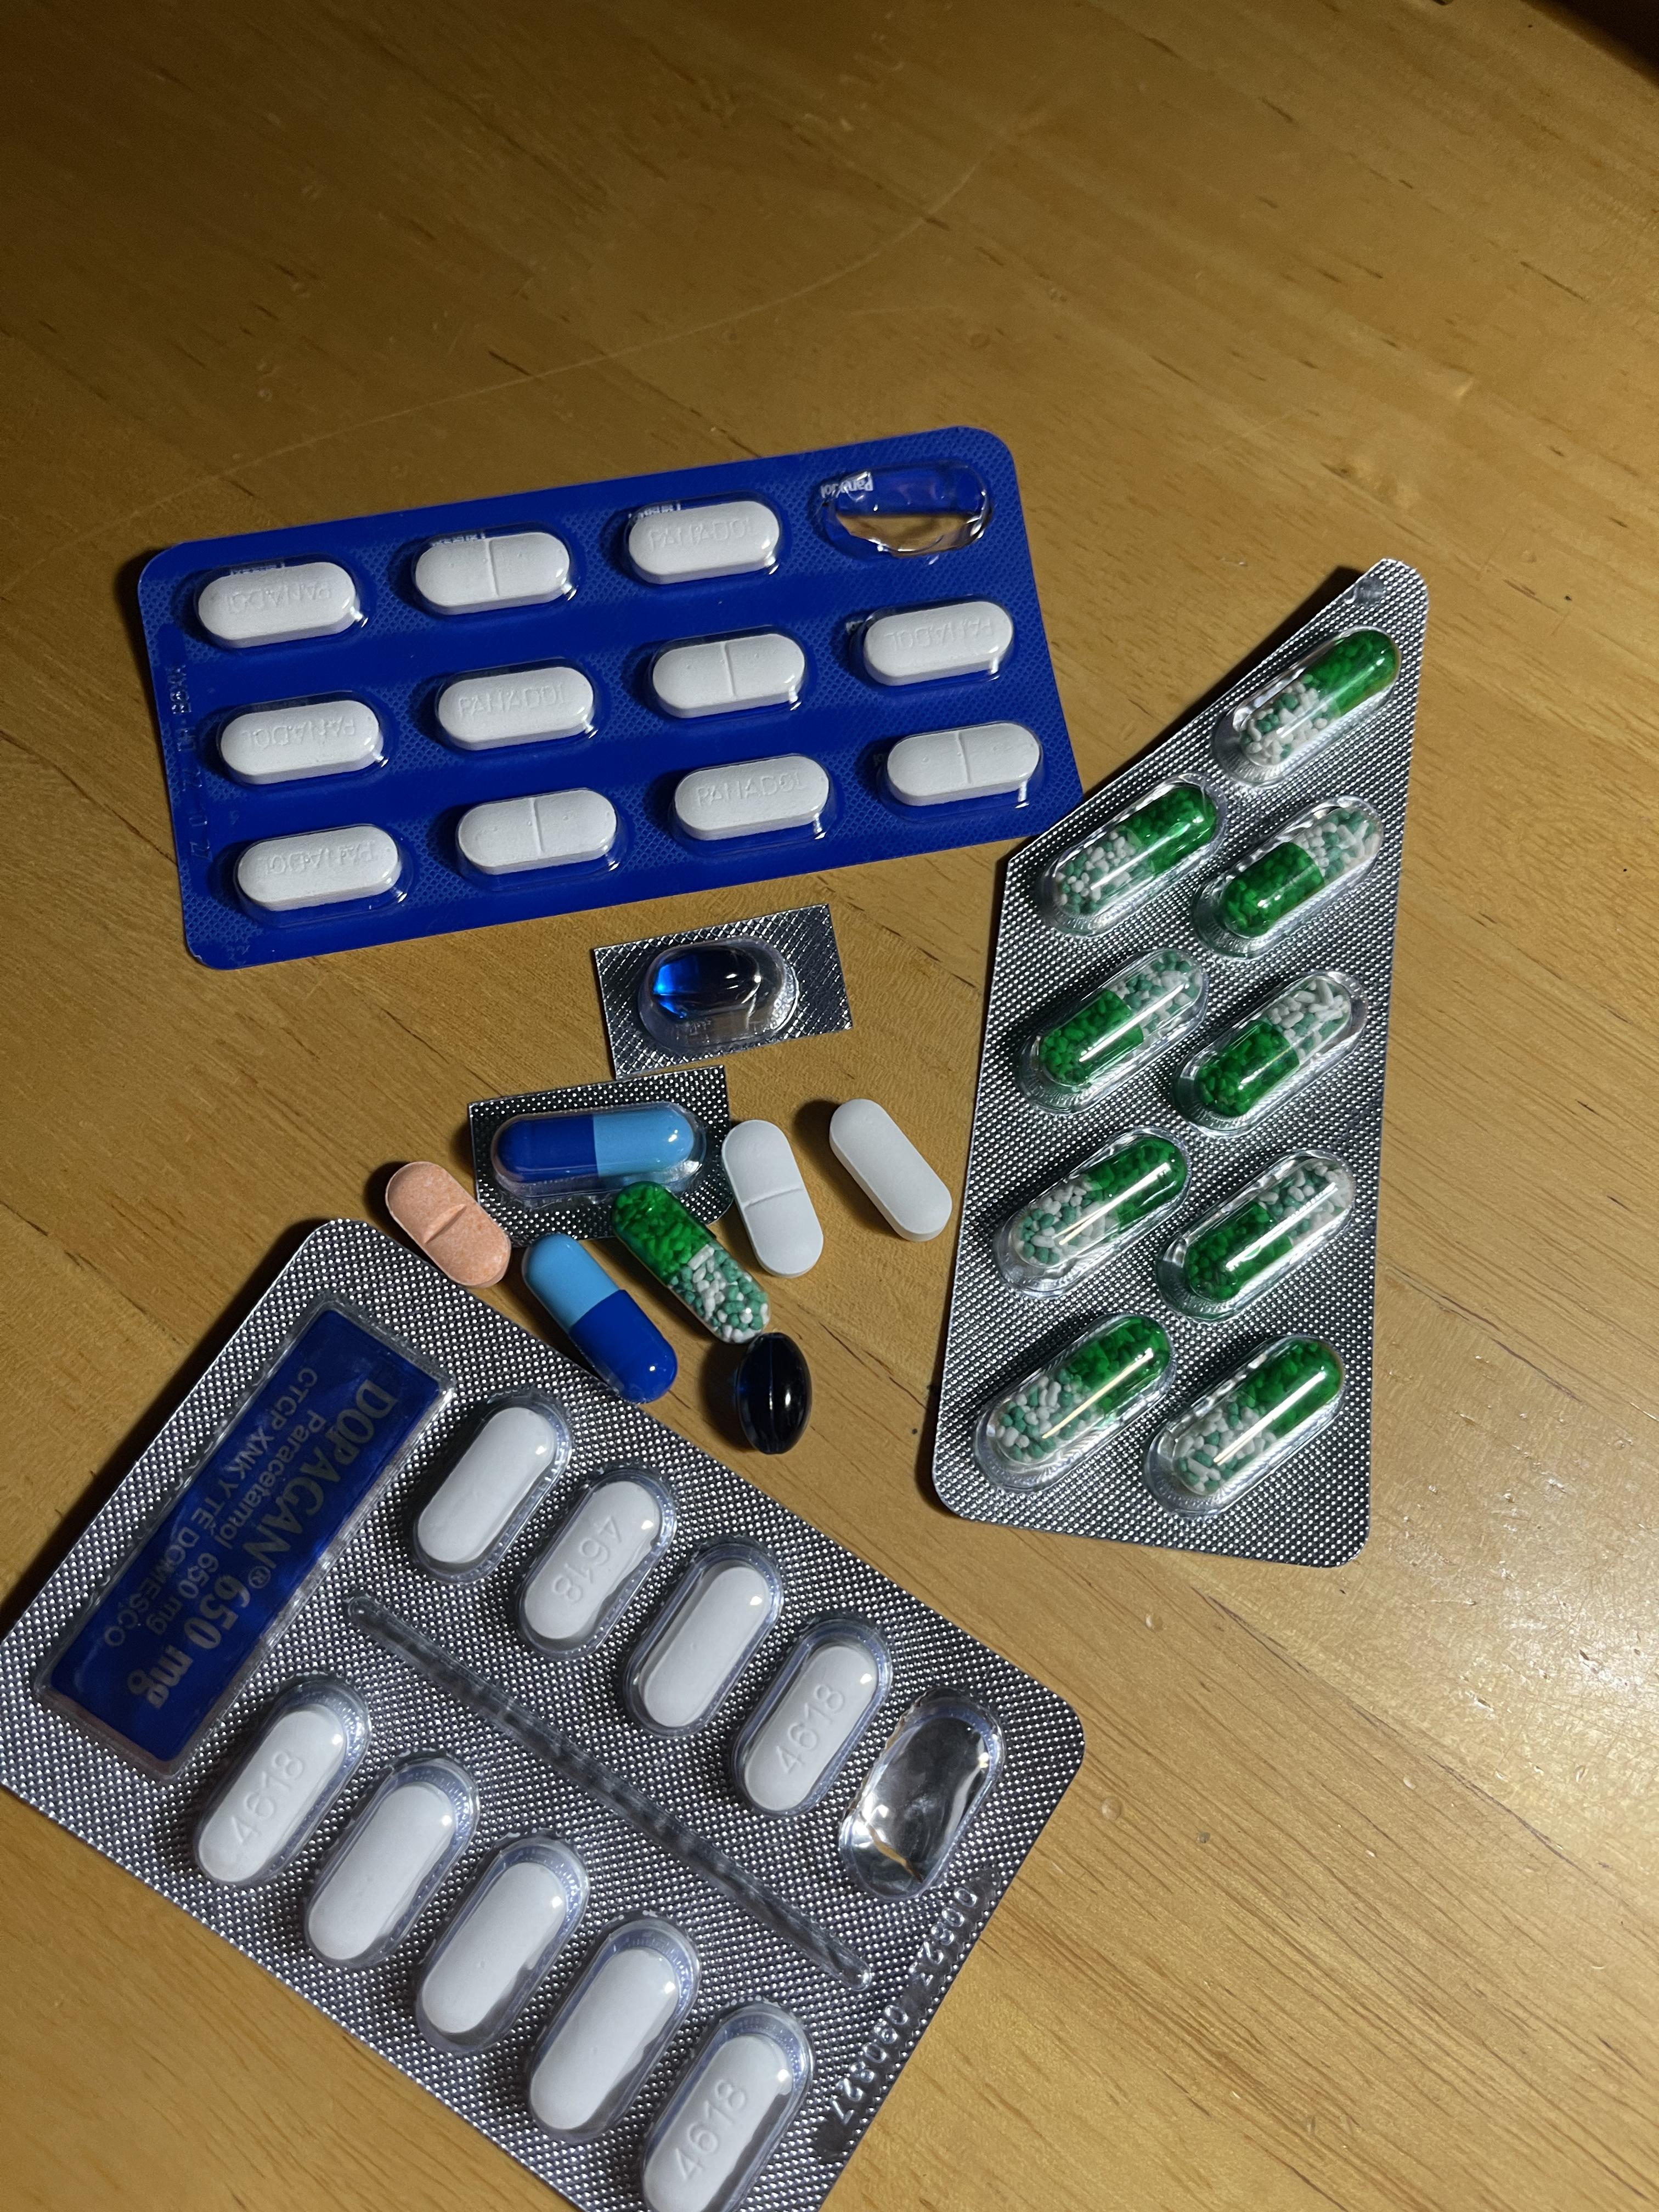Lincomyxin_500mg: (734, 1331, 814, 1453), (650, 944, 770, 1022)
Loratadine_10mg: (387, 1162, 514, 1292)
Paracetamol_350mg: (718, 1118, 821, 1277), (234, 824, 403, 913), (218, 697, 385, 786), (195, 561, 362, 650), (643, 631, 810, 719), (671, 752, 835, 843), (852, 597, 1018, 686), (457, 789, 619, 878), (434, 664, 598, 751), (880, 721, 1040, 810), (622, 498, 784, 585), (410, 531, 572, 617)
Paracetamol_500mg: (530, 1930, 692, 2135), (422, 1853, 577, 2047), (314, 1775, 462, 1963), (200, 1707, 349, 1888), (643, 2033, 791, 2210), (638, 1559, 775, 1730), (739, 1646, 873, 1815), (420, 1407, 563, 1566), (525, 1487, 657, 1646), (823, 1103, 950, 1247)
Paracetamol_650mg: (605, 1181, 774, 1345), (1164, 1341, 1333, 1493), (1225, 634, 1396, 779), (1192, 970, 1358, 1115), (993, 1320, 1152, 1470), (1182, 1158, 1342, 1299), (1035, 946, 1194, 1087), (1058, 784, 1215, 923), (1220, 805, 1380, 941), (1009, 1146, 1173, 1271)
pill: (523, 1228, 678, 1397), (493, 1103, 694, 1183)
